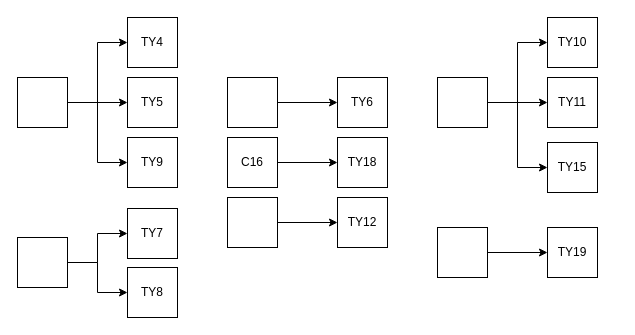
Some shapes in this 635 by 335 pixel diagram are drawn without their labels. Each missing label, with the centre of its shape:
"C1" belongs at (42,102).
"C15" belongs at (252,102).
"C17" belongs at (252,222).
"C18" belongs at (462,102).
"C19" belongs at (462,252).
"C2" belongs at (42,262).
